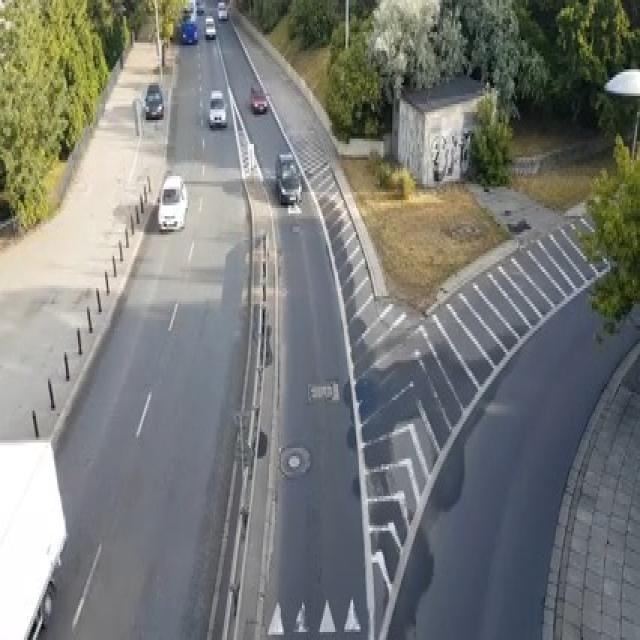car: (158, 173, 188, 230), (275, 152, 302, 205), (142, 83, 164, 117), (209, 88, 227, 128), (250, 83, 268, 112), (180, 18, 197, 42), (204, 16, 217, 37), (216, 0, 227, 19), (195, 0, 204, 13)
